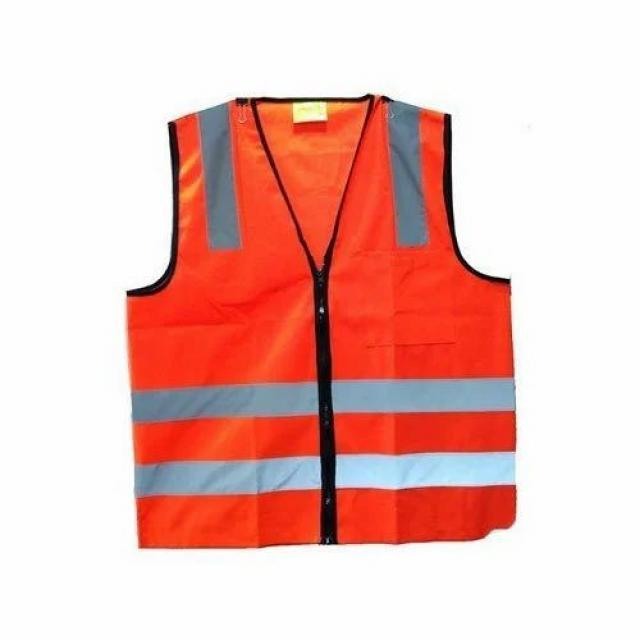reflective_jacket: (76, 38, 549, 578)
